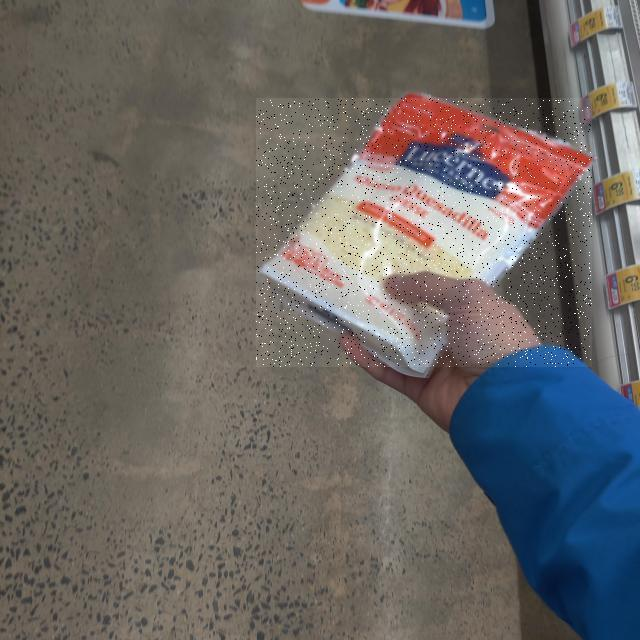Cheese: (256, 98, 592, 367)
